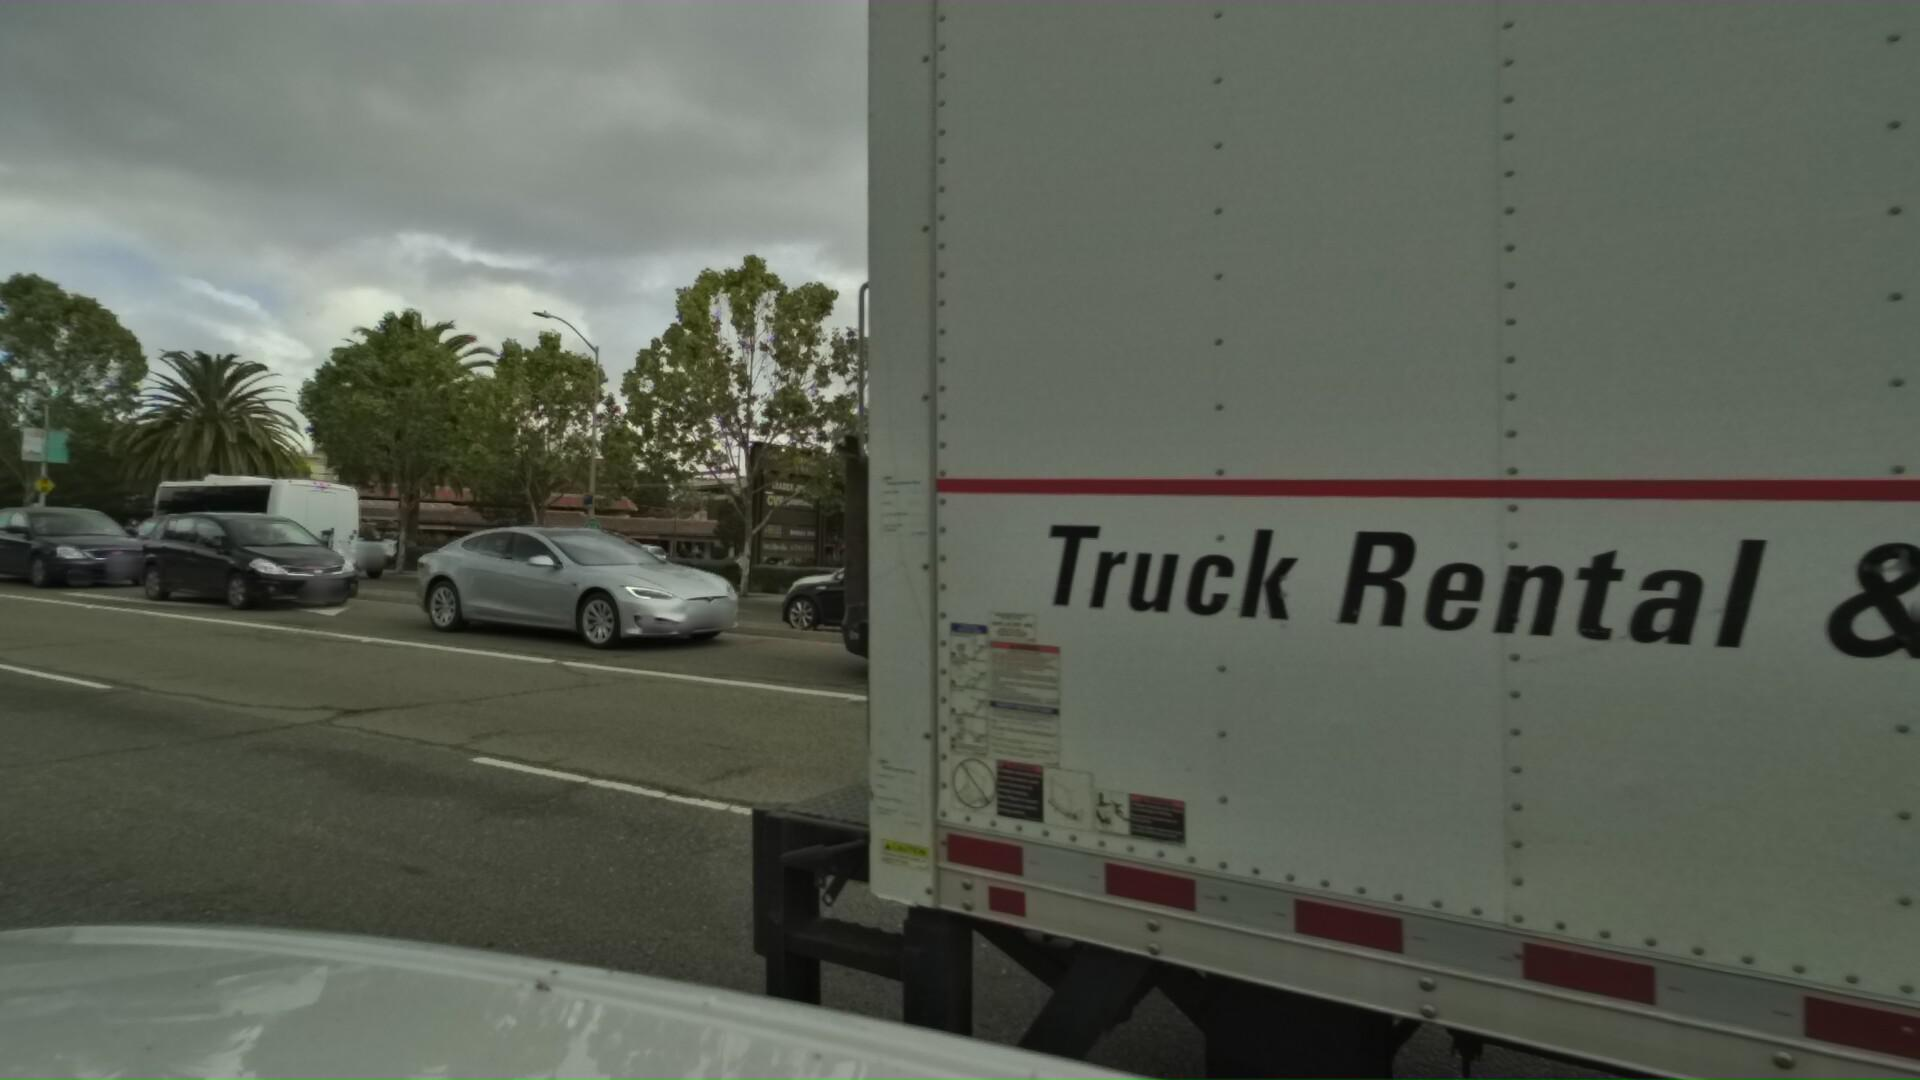bus: (107, 462, 375, 584)
car: (775, 516, 1340, 709), (1726, 554, 1920, 916), (375, 516, 760, 658), (112, 509, 375, 620), (737, 545, 975, 647), (0, 506, 171, 599), (764, 549, 955, 625), (92, 510, 256, 580), (241, 517, 400, 582), (0, 496, 1, 588)
